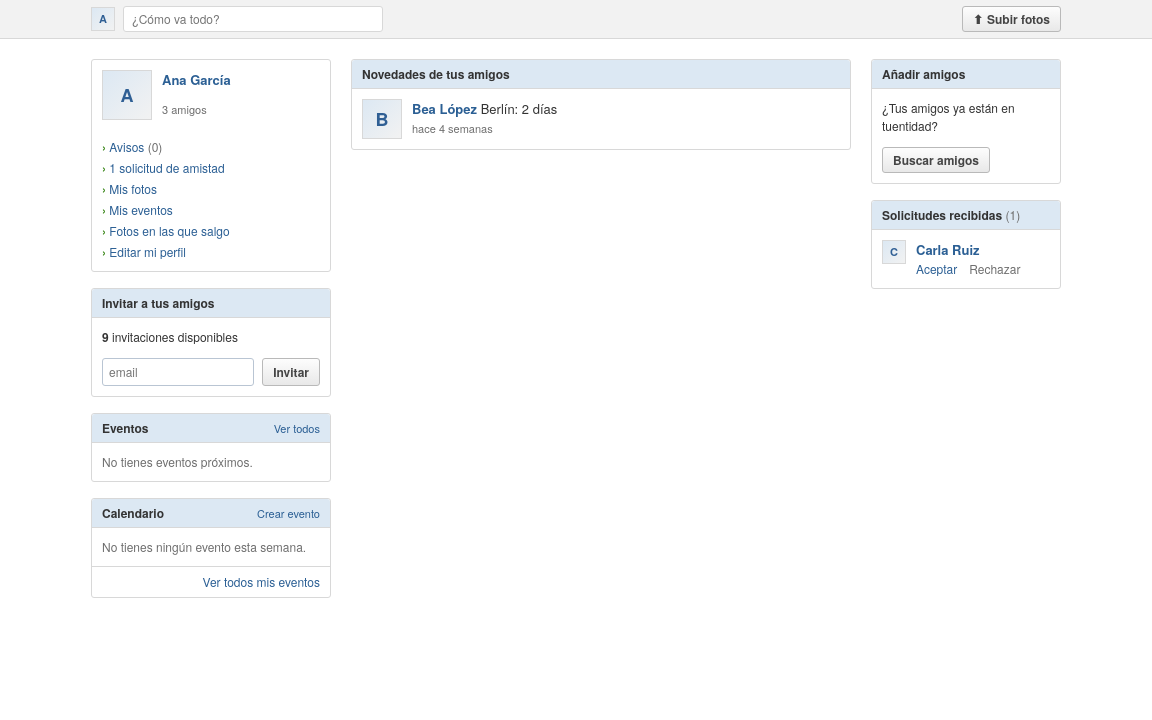
Test: Home › changes the status from the status bar
The width and height of the screenshot is (1152, 720).
Type "De viaje" into the field named "Tu estado". click: x=253, y=19
box: [123,6,383,32]
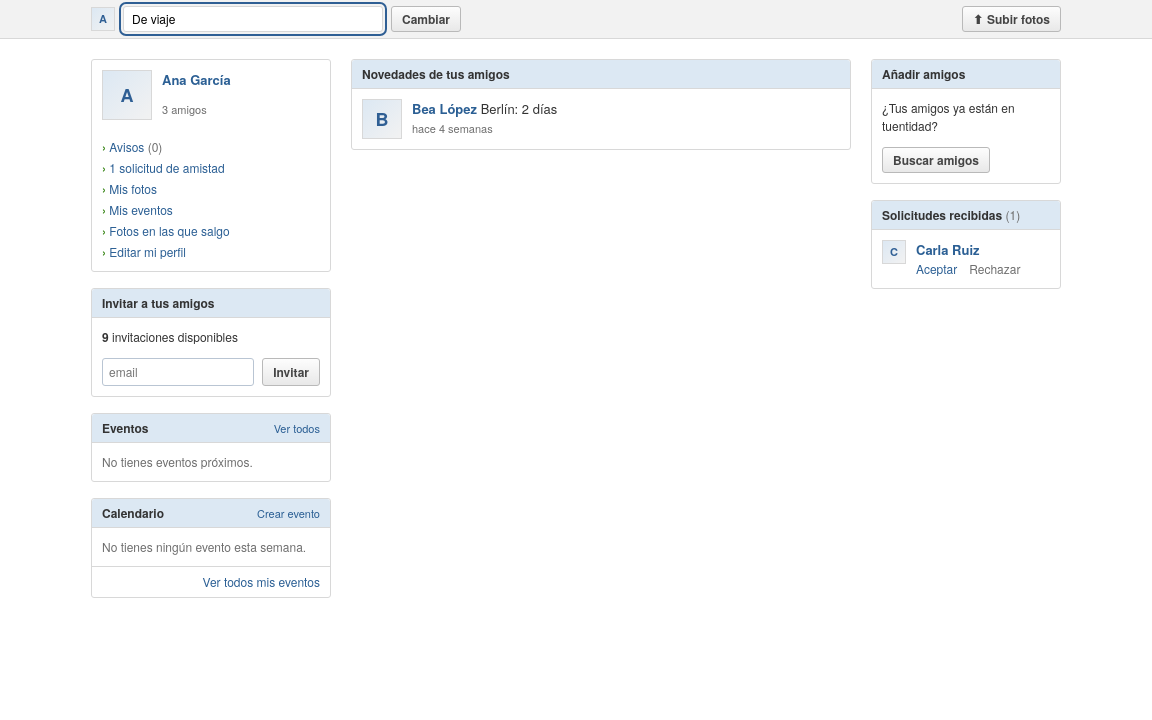
Click the button "Cambiar". click: x=426, y=19
box: [391,6,461,32]
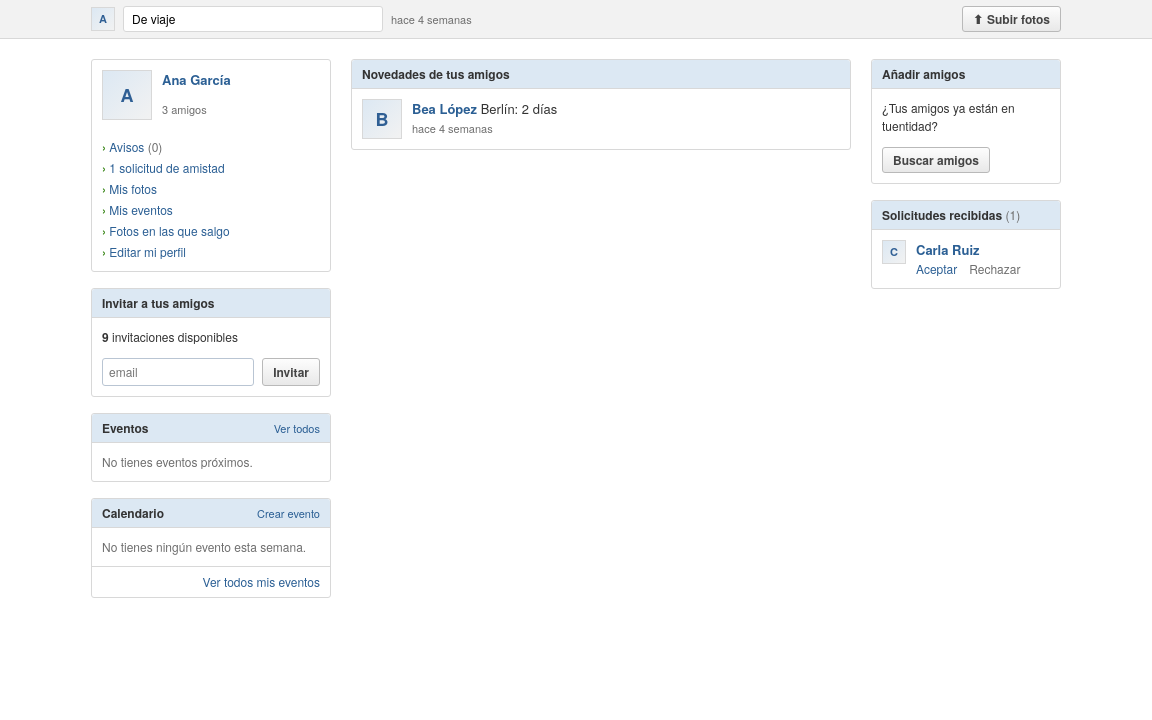
Now the text "hace " in the row of "Subir fotos" is shown, box [391,11,472,27]
Now the button "Cambiar" is gone
